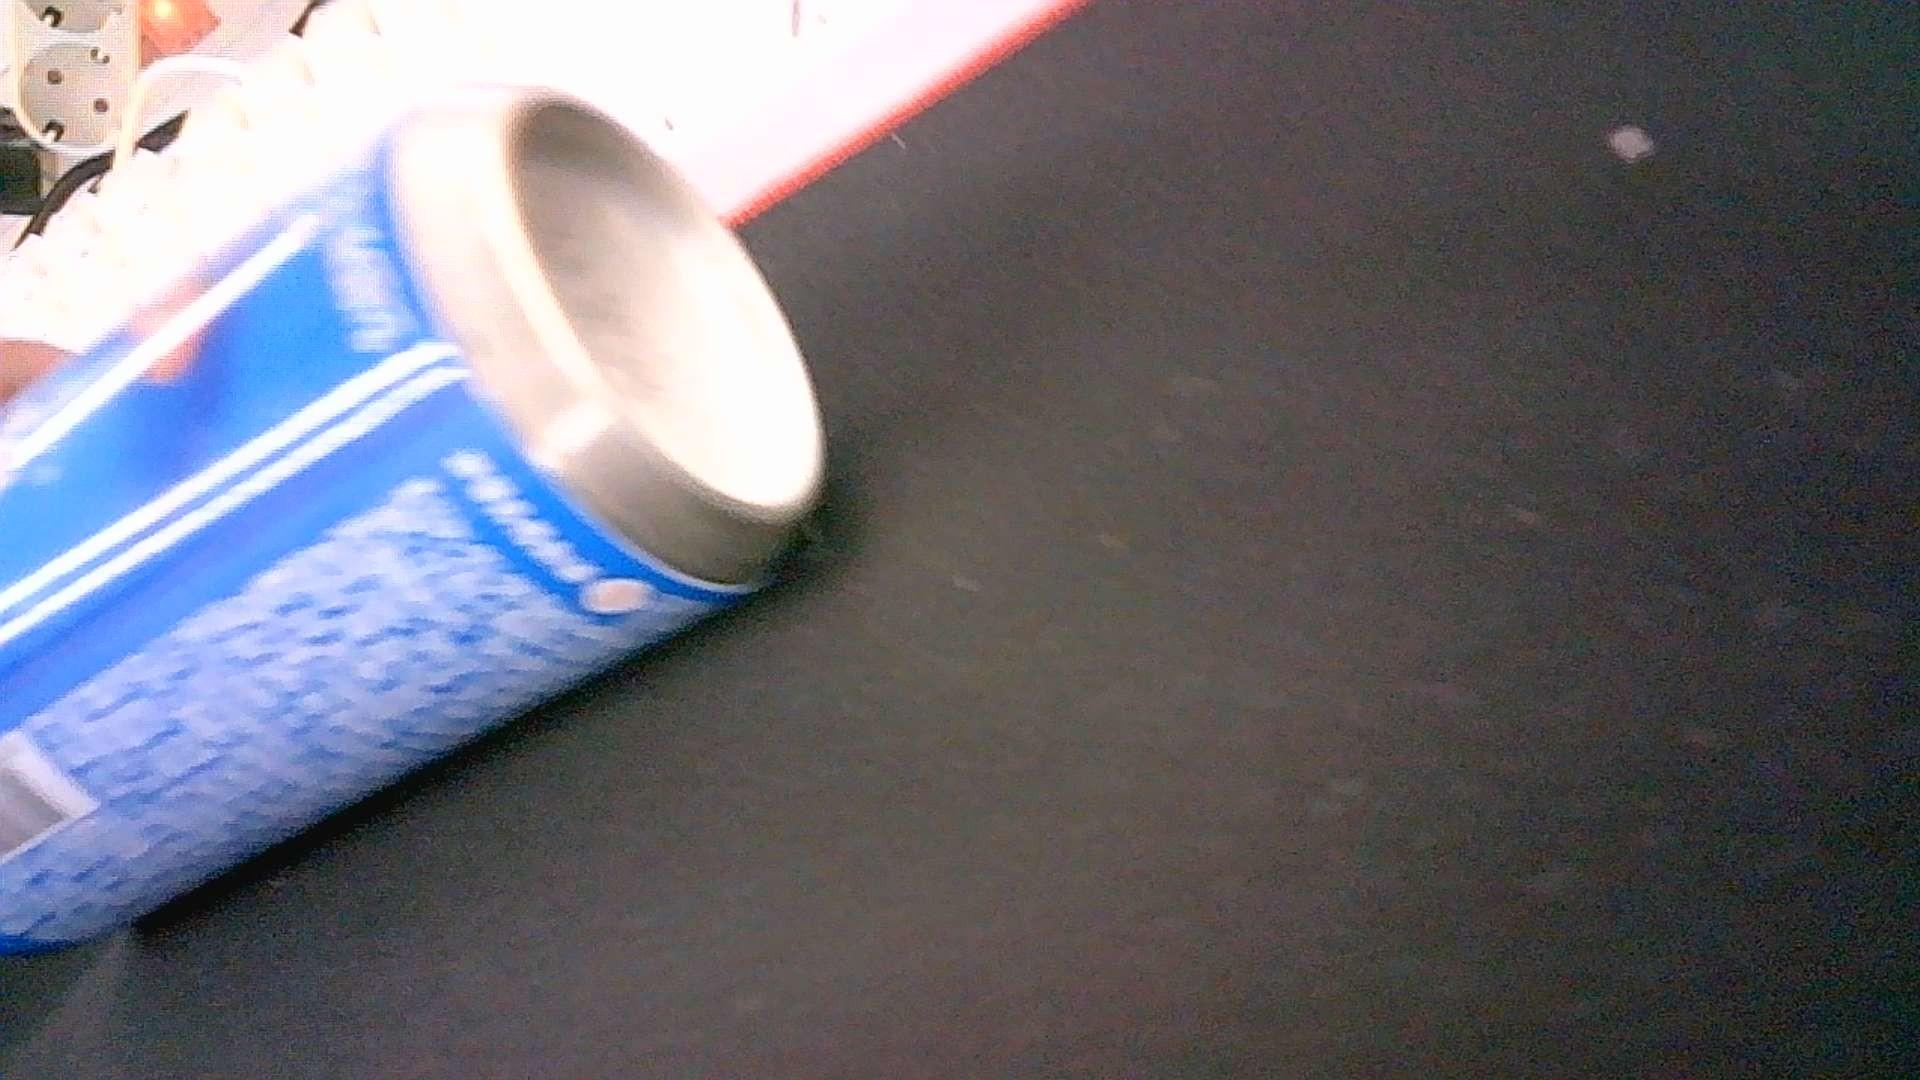letsbe: (1, 70, 829, 956)
